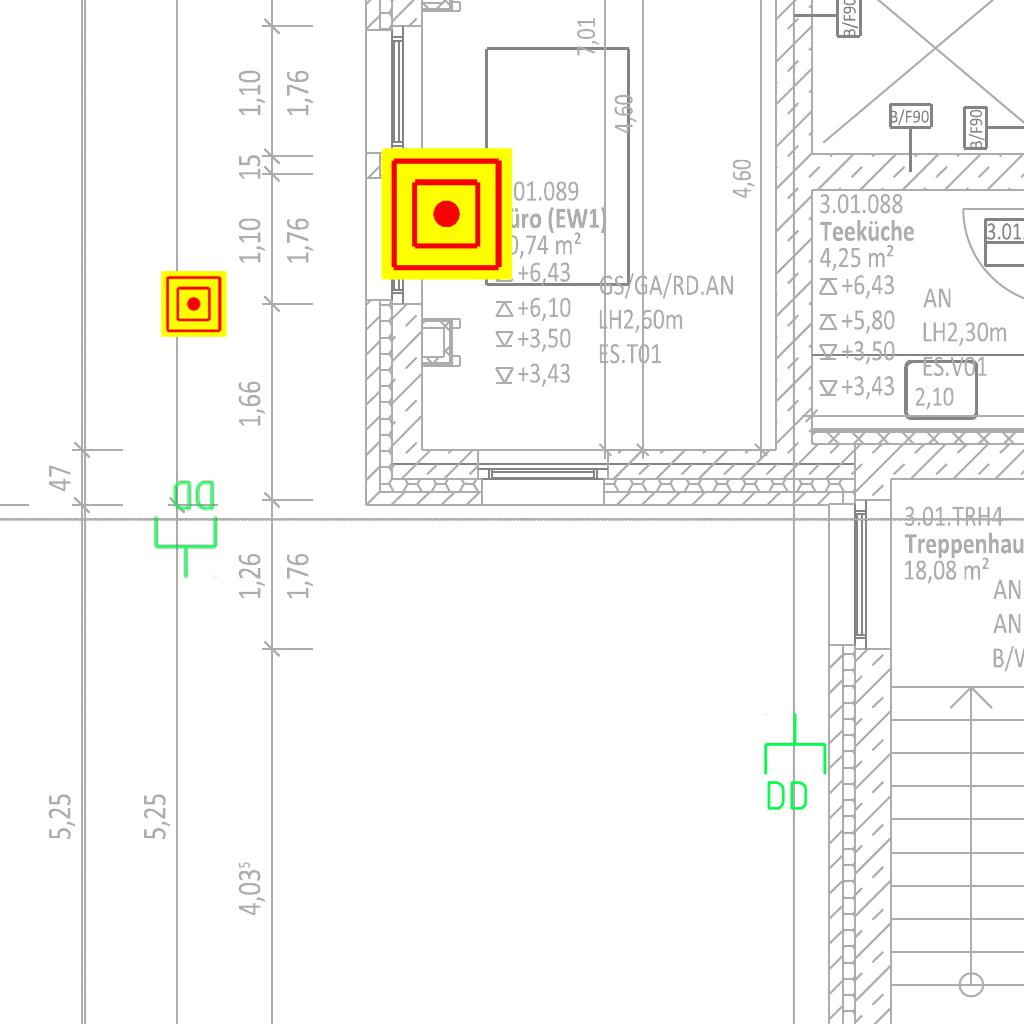Datenanschluss_zweifach: (760, 711, 829, 814), (152, 477, 221, 580)
NAM-Nichtautomatischer_Melder: (381, 148, 513, 280), (161, 271, 227, 337)
